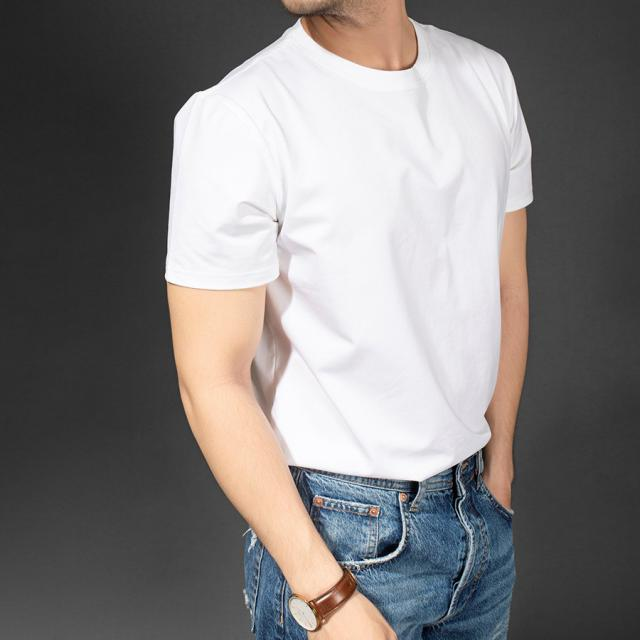Shirt: (159, 15, 536, 485)
